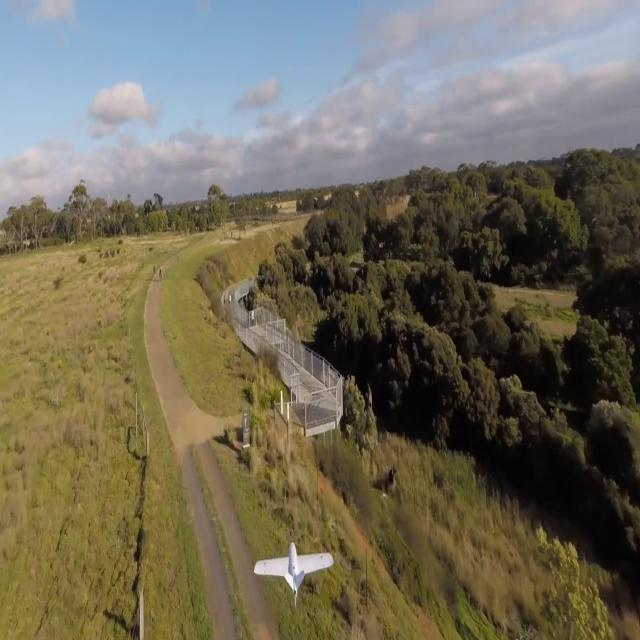iha: (286, 540, 304, 598)
